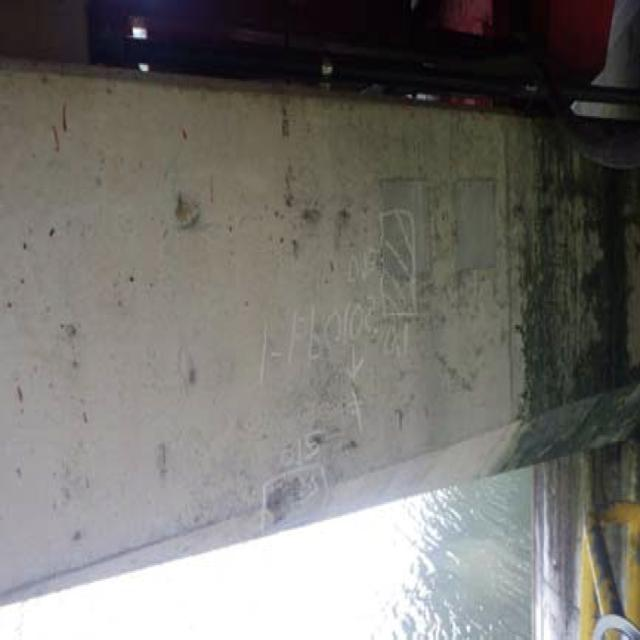spalling: (248, 364, 363, 529), (367, 169, 512, 297)
